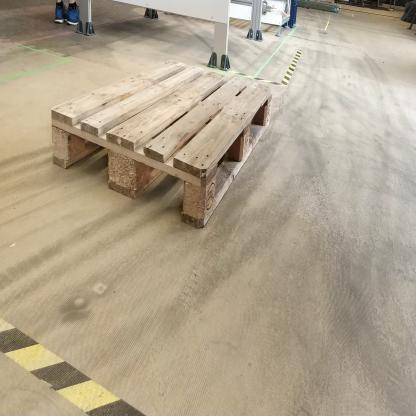BoxFace: (46, 53, 277, 236)
